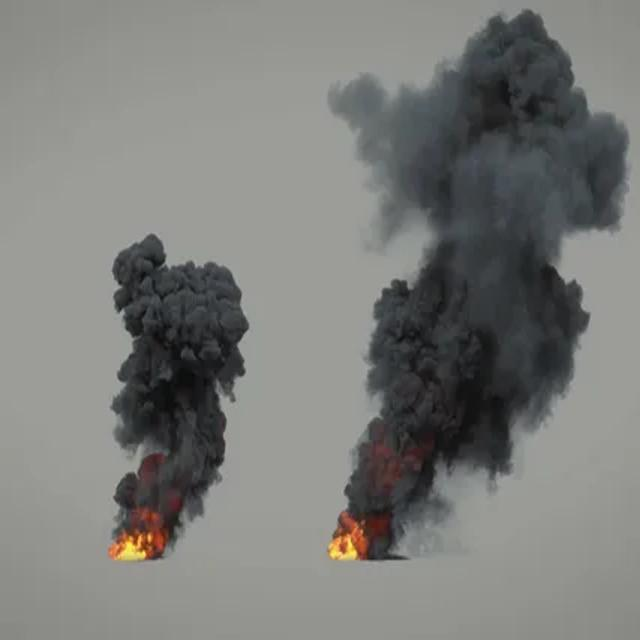Smoke: (328, 11, 631, 558), (112, 233, 251, 556)
